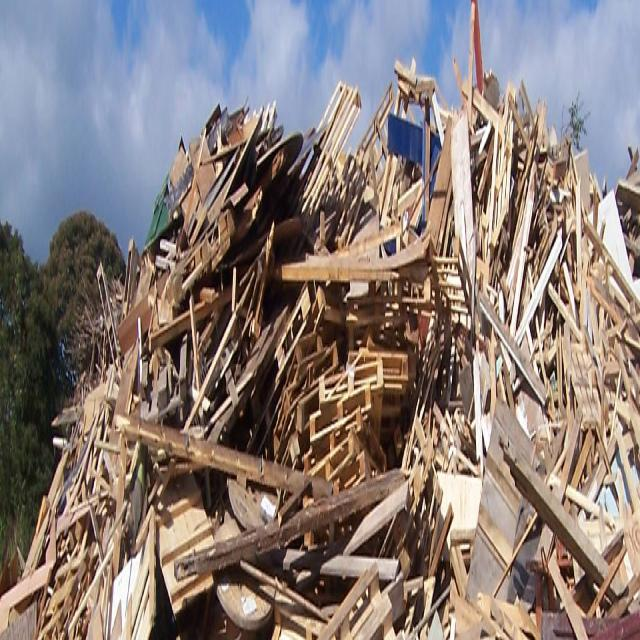green waste: (2, 36, 637, 631)
